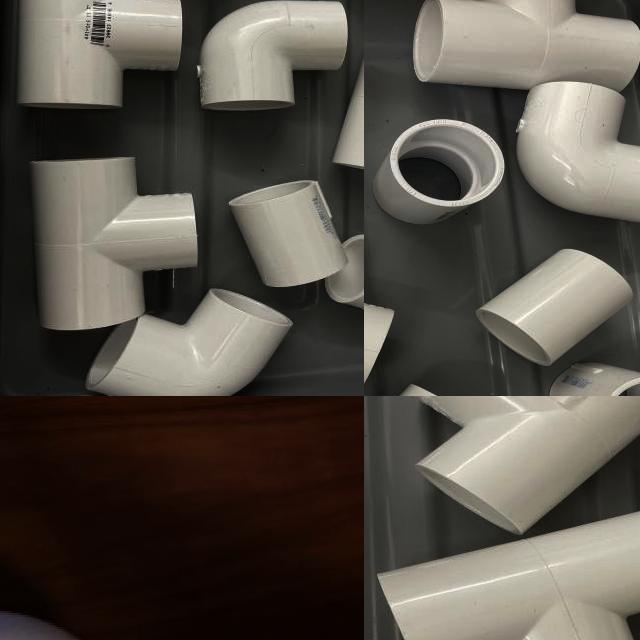L Joint: (85, 289, 294, 396), (513, 83, 640, 225), (199, 1, 351, 116)
T Joint: (377, 511, 640, 640), (412, 396, 640, 534), (28, 157, 200, 330), (411, 0, 640, 95), (18, 0, 184, 112)
